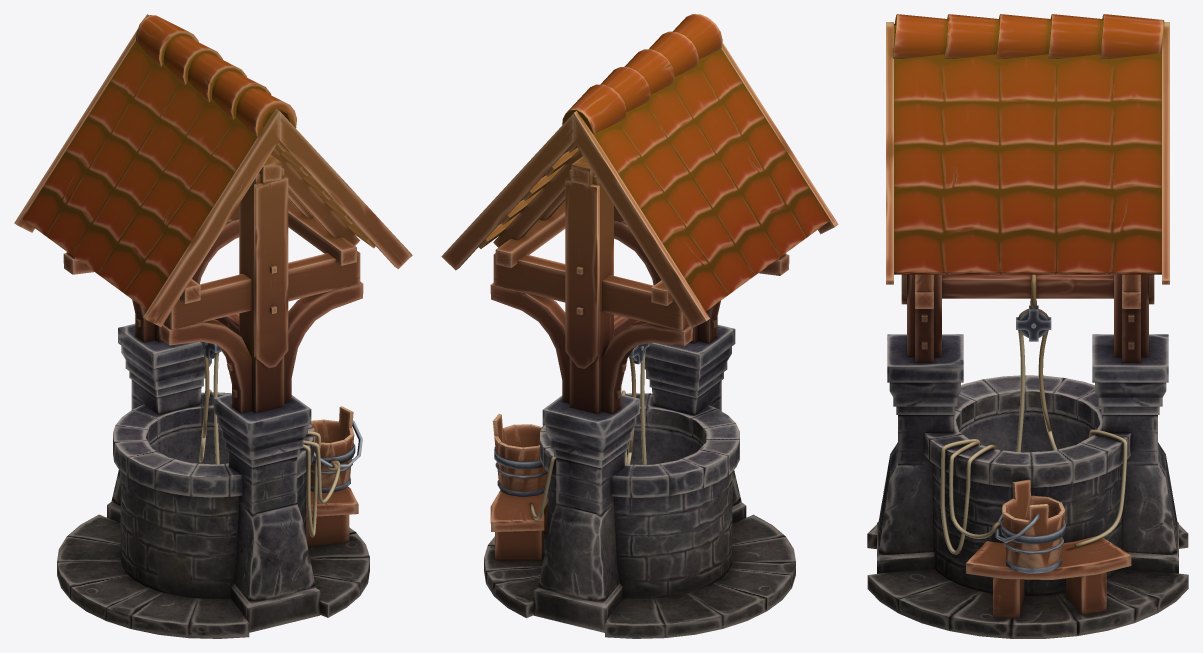
The model's file is kolodets.fbx.
3 renders of one model, left to right at view 1: azimuth 30°, elevation 25°; view 2: azimuth 150°, elevation 25°; view 3: azimuth 270°, elevation 25°, orthographic. The views are drawn at different scales.
Parts seen in each view (by area): view 1: kolodets_1_low; view 2: kolodets_1_low; view 3: kolodets_1_low.
Boxes of the visible parts, x1,y1,x2,y2 form: kolodets_1_low: (14, 14, 412, 638); kolodets_1_low: (441, 14, 838, 638); kolodets_1_low: (867, 14, 1188, 638).
Bounding box in the file's own units: 311 × 548 × 289.
